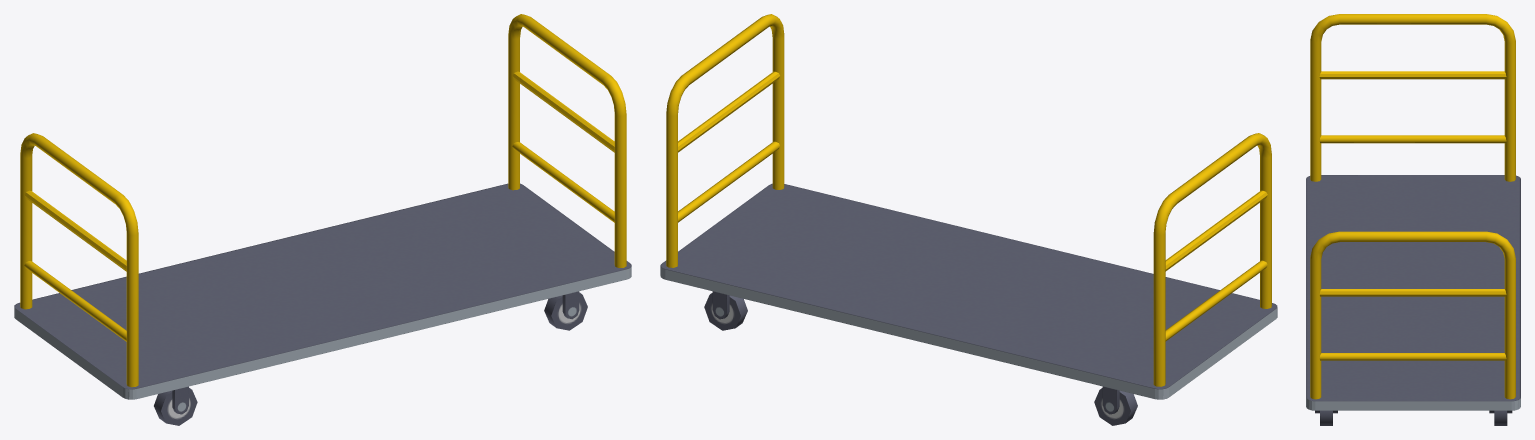
File: Char_Simple_01.FBX
3 views of the same model, side by side, from view 1: azimuth 30°, elevation 25°; view 2: azimuth 150°, elevation 25°; view 3: azimuth 270°, elevation 25° (orthographic). The views are drawn at different scales.
Parts seen in each view (by area): view 1: Char_Simple_01; view 2: Char_Simple_01; view 3: Char_Simple_01.
Part boxes in pixels (x1,y1,x2,y2): Char_Simple_01: [14, 14, 631, 425]; Char_Simple_01: [660, 14, 1277, 425]; Char_Simple_01: [1306, 14, 1520, 425].
Size of the model in its own units: 2.6 by 1.15 by 1.04.
3 materials, 3 textured.
